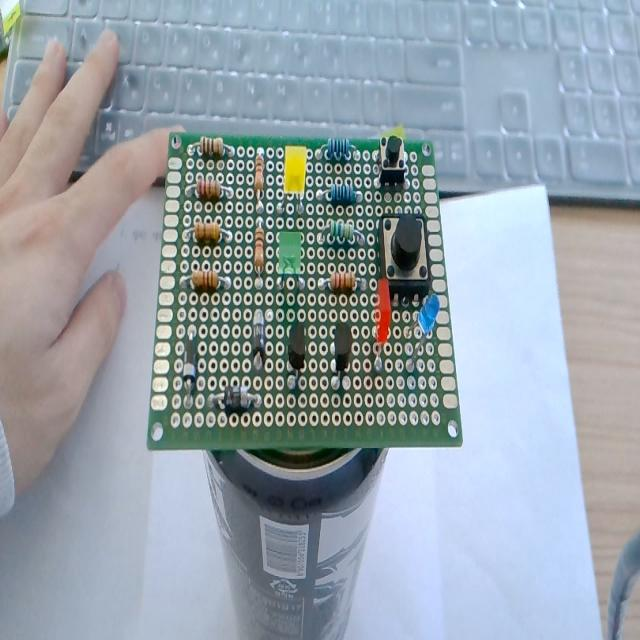diode: (209, 386, 261, 412), (182, 331, 197, 407), (252, 308, 266, 370)
led: (407, 292, 440, 372), (282, 146, 308, 217), (372, 277, 391, 370), (278, 230, 302, 276)
resistor: (320, 217, 365, 245), (320, 273, 366, 294), (187, 178, 227, 202), (182, 272, 230, 292), (317, 184, 361, 205), (190, 138, 233, 159), (188, 224, 230, 244), (325, 138, 352, 162), (254, 225, 264, 274), (254, 153, 264, 198)
switch: (378, 211, 430, 302), (378, 134, 407, 187)
transistor: (331, 320, 352, 387), (287, 319, 305, 387)
